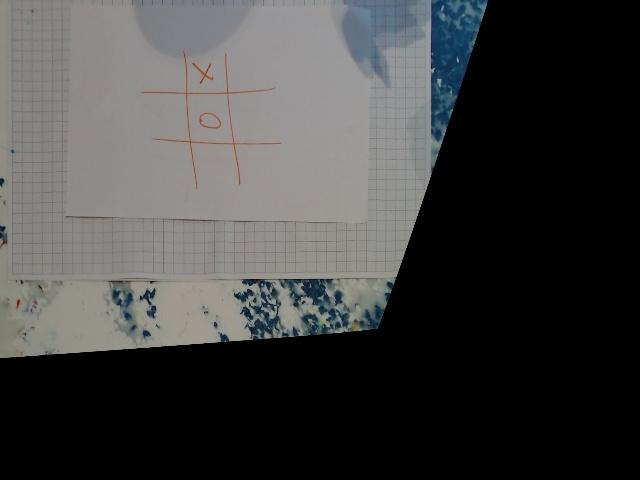O: (197, 105, 223, 136)
X: (189, 58, 217, 86)
grid: (144, 51, 279, 188)
